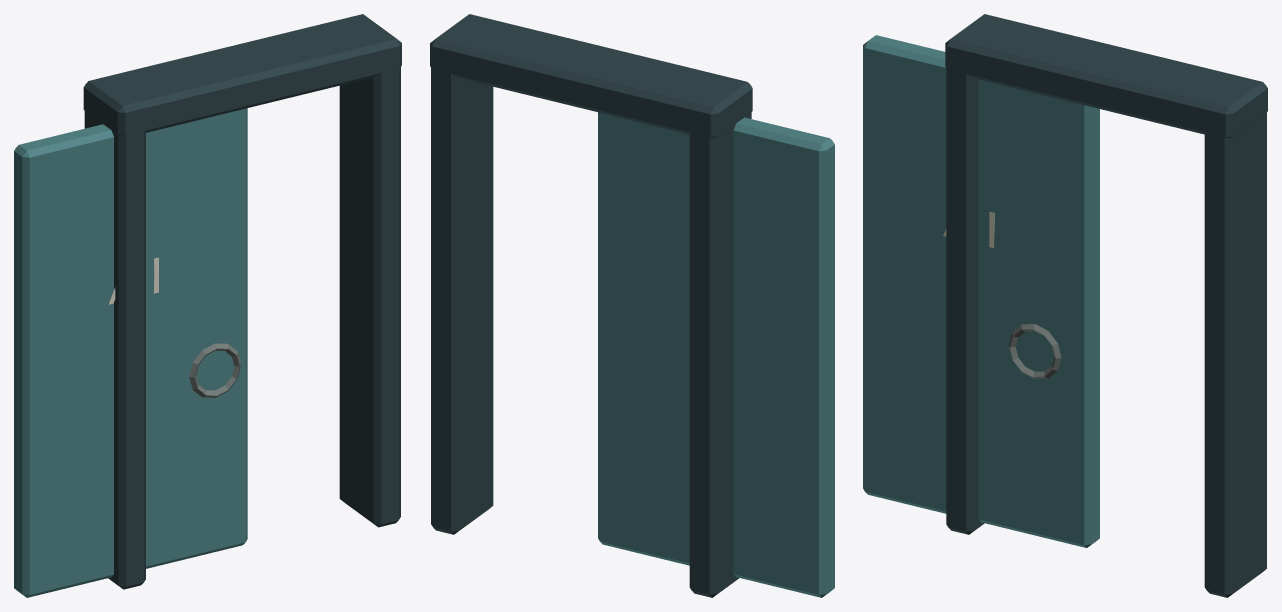
The model's file is service-door.glb.
The picture shows the model from 3 angles, left to right: view 1: azimuth 30°, elevation 25°; view 2: azimuth 150°, elevation 25°; view 3: azimuth 330°, elevation 25°; orthographic projection.
Visible parts, largest first — view 1: service-door__service-door-hinge__petrol, service-door__service-door__steel, service-door__service-door-hinge__hardware; view 2: service-door__service-door-hinge__petrol, service-door__service-door__steel; view 3: service-door__service-door-hinge__petrol, service-door__service-door__steel, service-door__service-door-hinge__hardware.
Part boxes in pixels (bbox=[...]): service-door__service-door-hinge__petrol: bbox=[14, 108, 247, 597]; service-door__service-door__steel: bbox=[83, 14, 401, 589]; service-door__service-door-hinge__hardware: bbox=[189, 343, 241, 397]; service-door__service-door-hinge__petrol: bbox=[598, 112, 834, 597]; service-door__service-door__steel: bbox=[430, 14, 752, 597]; service-door__service-door-hinge__petrol: bbox=[863, 35, 1099, 547]; service-door__service-door__steel: bbox=[945, 14, 1267, 597]; service-door__service-door-hinge__hardware: bbox=[1008, 324, 1061, 379].
Size of the model in its own units: 1.9 by 2.36 by 0.383.
